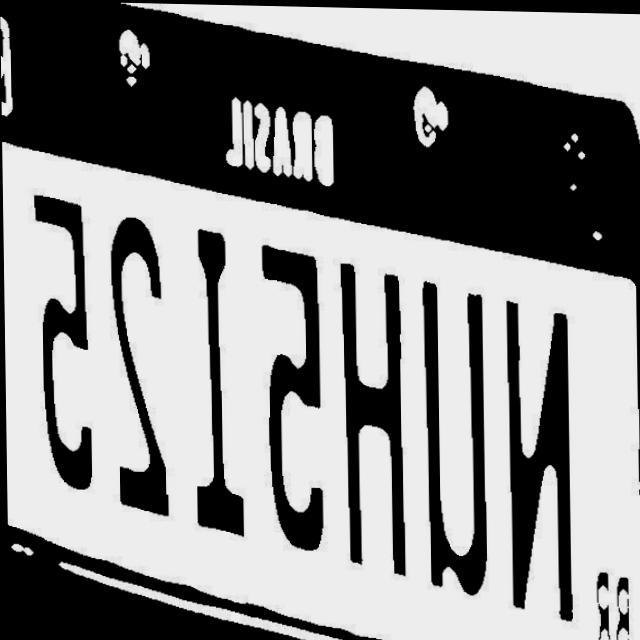2: (90, 187, 176, 506)
5: (247, 216, 328, 536), (19, 171, 92, 474)
h: (329, 238, 414, 560)
i: (175, 202, 248, 523)
n: (493, 278, 578, 622)
u: (411, 254, 496, 591)
